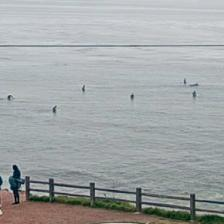surfer: (192, 90, 196, 98), (190, 82, 198, 86), (7, 94, 13, 99), (52, 105, 56, 112), (82, 85, 86, 92), (130, 94, 134, 100), (182, 78, 186, 84)
